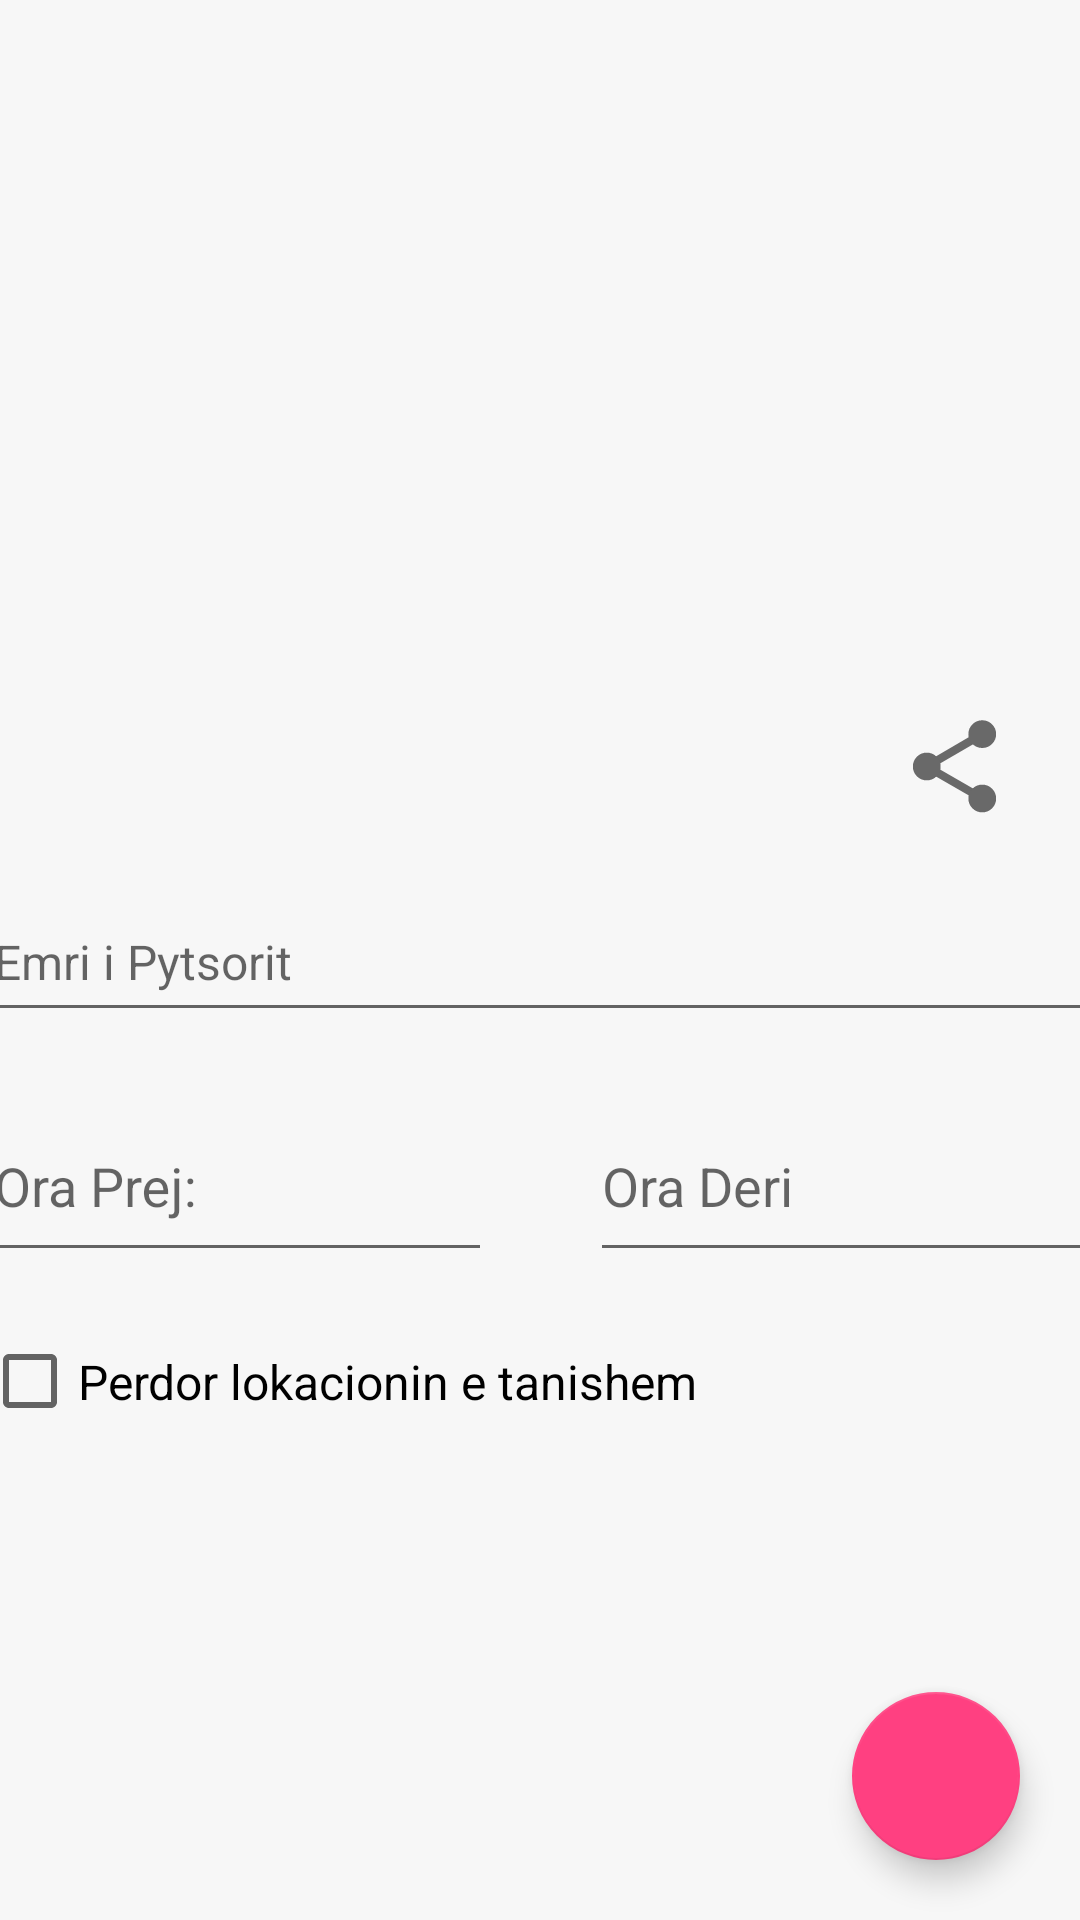

Screen size 1080*1920. Icon name, then its box in pixels as BBox(x1, y1, x2, y2):
share: BBox(913, 720, 996, 813)
